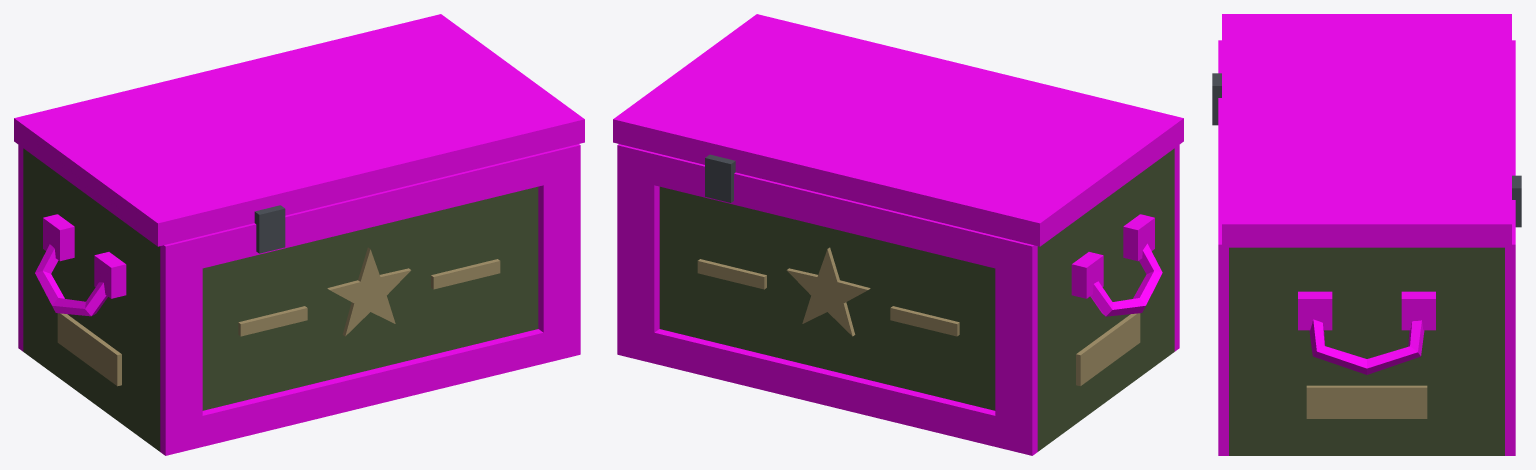
File: pickup_weapon_crate.glb
3 renders of one model, left to right at view 1: azimuth 30°, elevation 25°; view 2: azimuth 150°, elevation 25°; view 3: azimuth 270°, elevation 25°, orthographic.
Parts seen in each view (by area): view 1: pickup_weapon_crate__body; view 2: pickup_weapon_crate__body; view 3: pickup_weapon_crate__body.
Boxes of the visible parts, <box> form: pickup_weapon_crate__body: <box>14,14,584,455</box>; pickup_weapon_crate__body: <box>613,14,1183,455</box>; pickup_weapon_crate__body: <box>1212,14,1521,455</box>.
Size of the model in its own units: 0.6677 by 0.3 by 0.358.
1 material, 1 textured.
